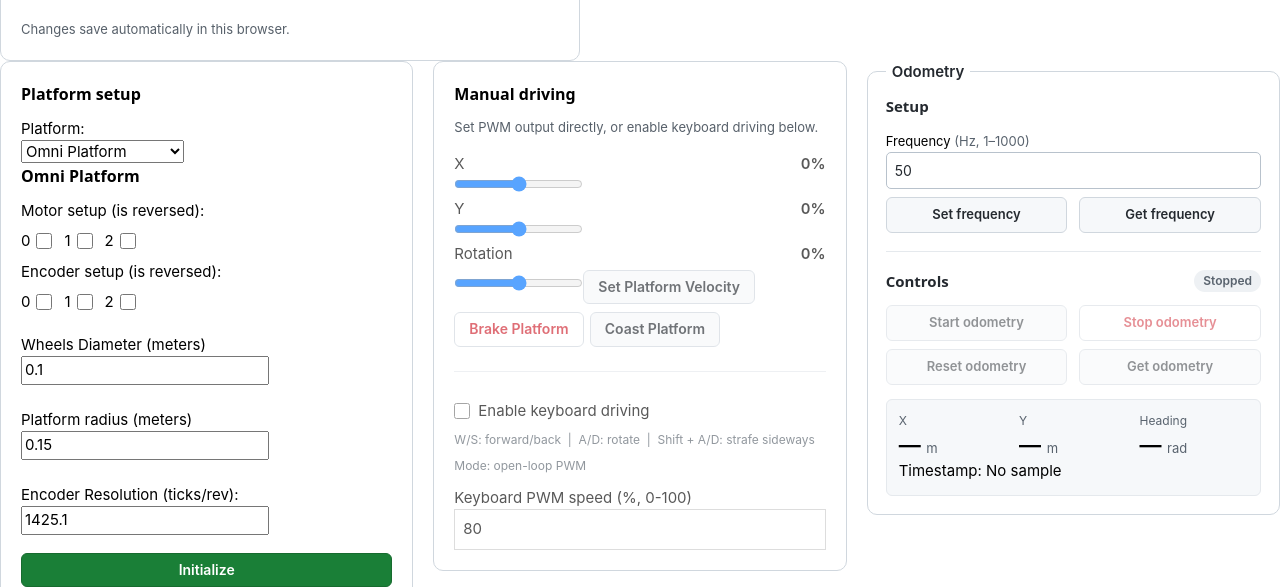
Scenario: position control integration › uses direct PID starting gains and explains disabled integral action on platform
Click the button "Initialize" at x=207, y=570, box [21, 552, 392, 586]
(page scrolled)
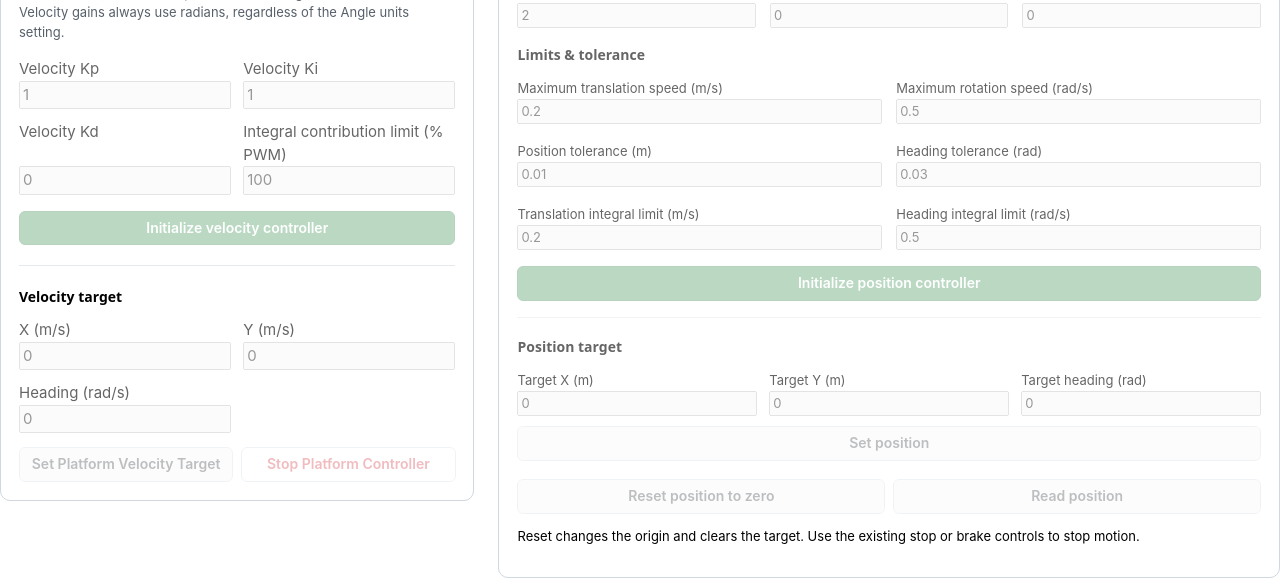
Click the button "Initialize velocity controller" at x=237, y=228, box [19, 211, 456, 245]
(page scrolled)
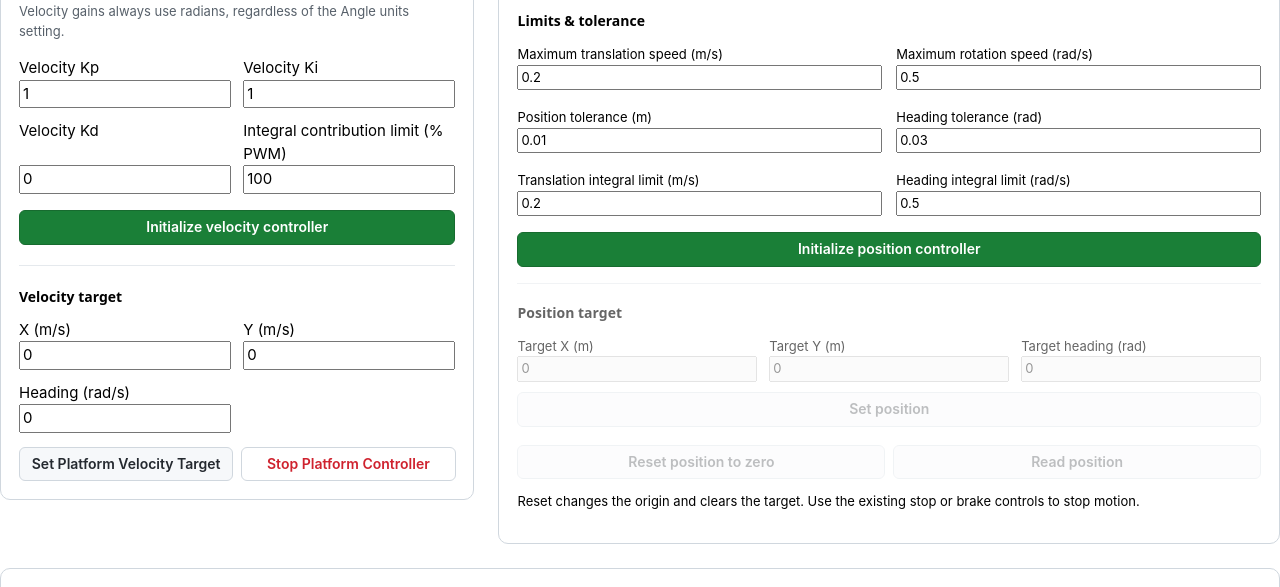
expect the button "Initialize position controller" is enabled: met, box [518, 232, 1261, 267]
Replace the text in the number field labelled "Velocity Ki" with "0" at x=349, y=94, box [243, 80, 456, 108]
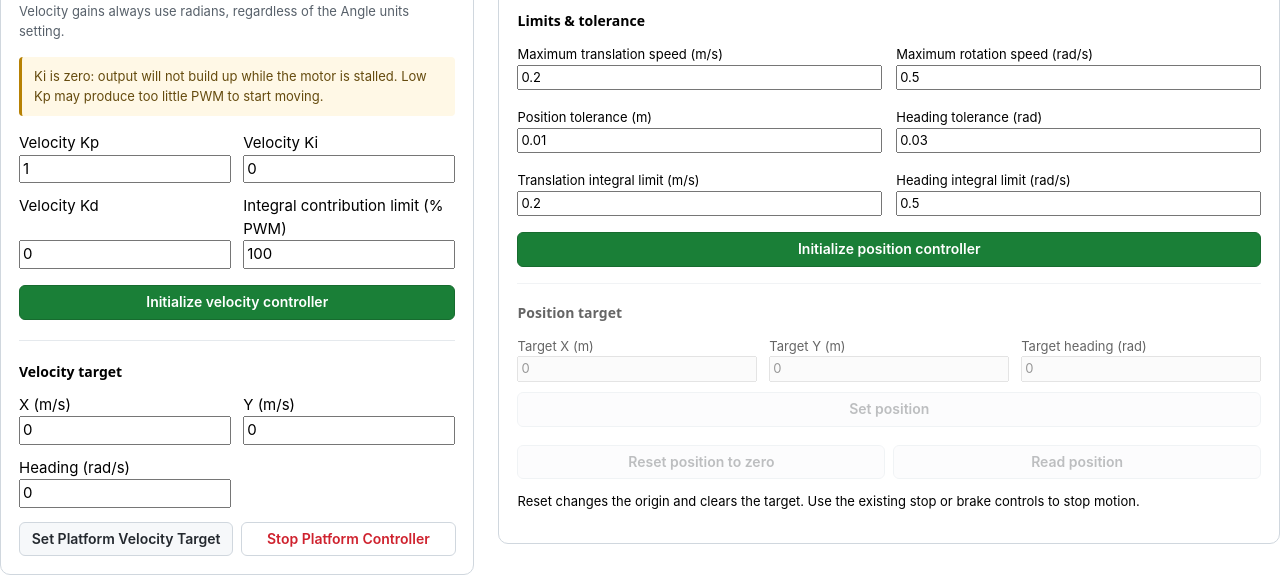
expect the text "Ki is zero: output will not build up" is shown: met, box [34, 68, 427, 104]
Replace the text in the number field labelled "Velocity Ki" with "1" at x=349, y=169, box [243, 155, 456, 183]
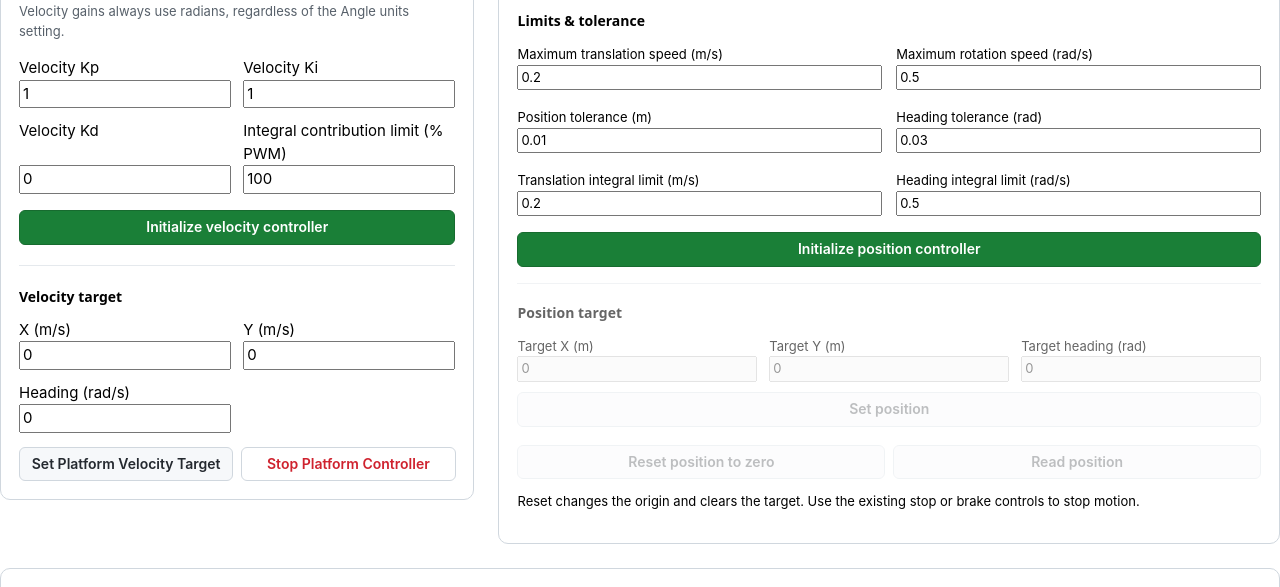
Replace the text in the number field labelled "Integral contribution limit (% PWM)" with "0" at x=349, y=180, box [243, 165, 456, 194]
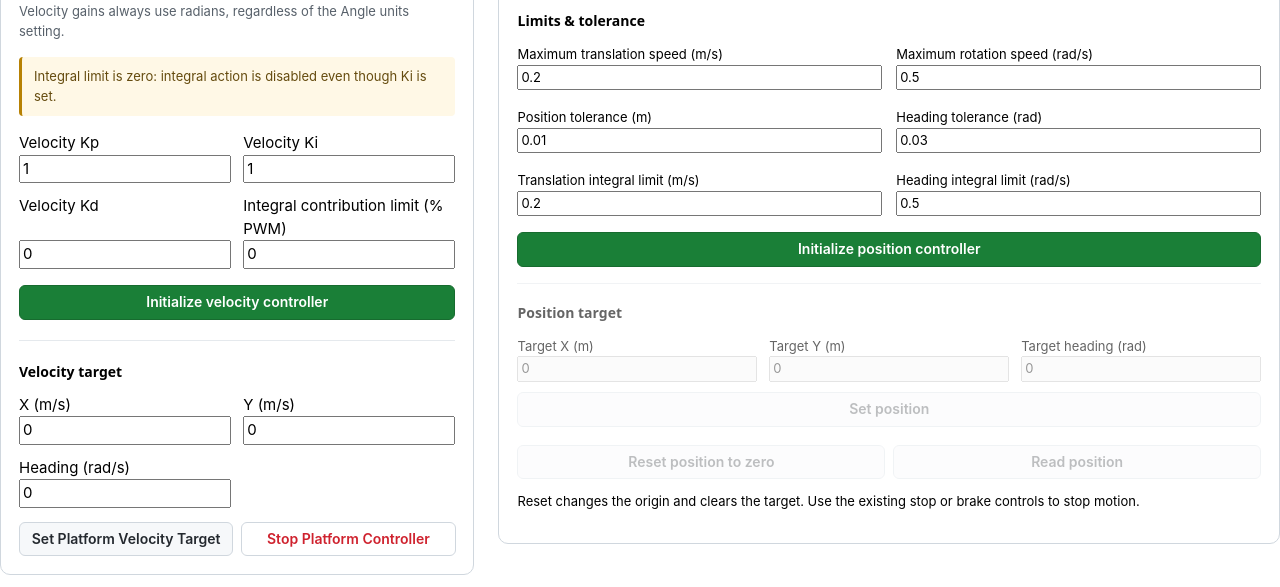
expect the text "Integral limit is zero: integral action is disabled" is shown: met, box [34, 68, 426, 104]
